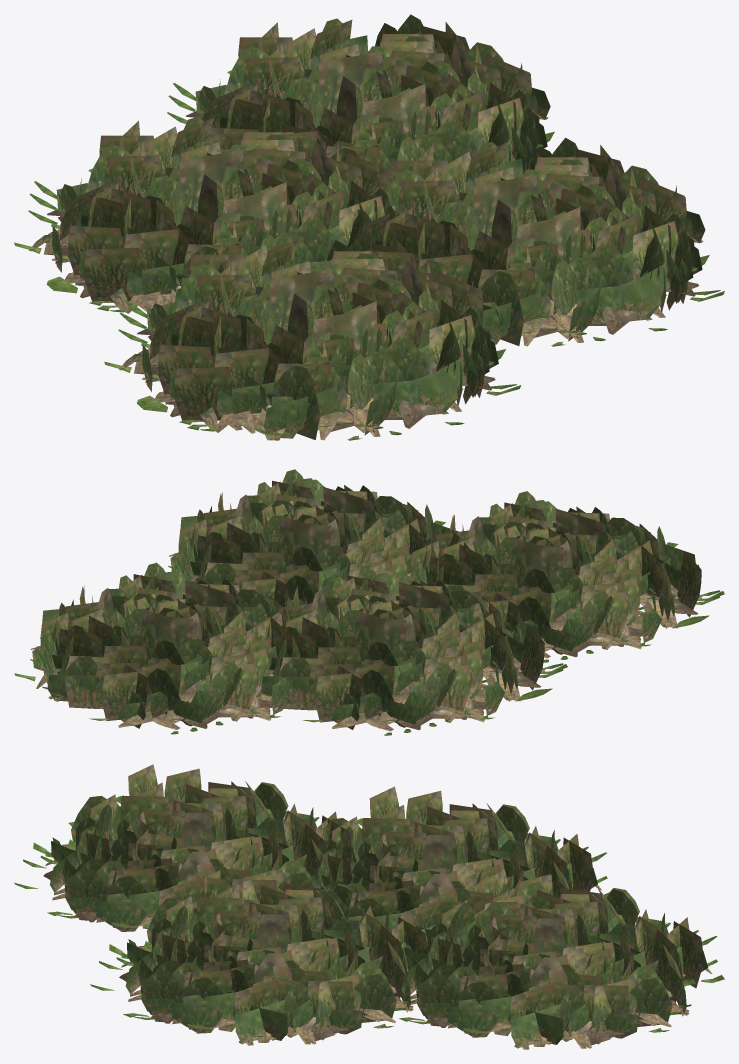
Rendered from Meadow_Grass_01_Var6.FBX.
3 renders of one model, top to bottom at view 1: azimuth 30°, elevation 25°; view 2: azimuth 150°, elevation 25°; view 3: azimuth 270°, elevation 25°, orthographic. The views are drawn at different scales.
Visible parts, largest first — view 1: Meadow_Grass_01_Var6_LOD0; view 2: Meadow_Grass_01_Var6_LOD0; view 3: Meadow_Grass_01_Var6_LOD0.
Part boxes in pixels (x1=…): Meadow_Grass_01_Var6_LOD0: x1=14, y1=14, x2=724, y2=440; Meadow_Grass_01_Var6_LOD0: x1=14, y1=469, x2=724, y2=735; Meadow_Grass_01_Var6_LOD0: x1=14, y1=764, x2=724, y2=1049.
Size of what is drawn, in the model's own units: 287 by 39.06 by 344.
